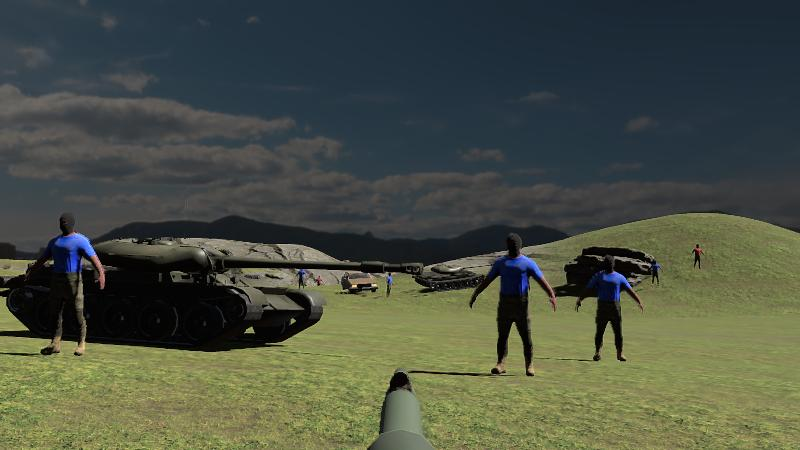Human: (470, 231, 557, 378), (34, 210, 107, 357), (575, 257, 644, 363)
Tank: (1, 235, 405, 348), (410, 263, 496, 293)
car: (340, 271, 379, 295)
